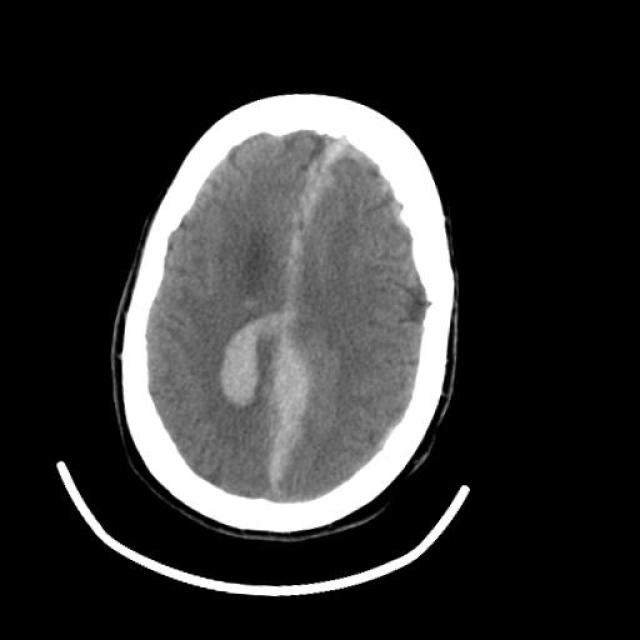Intraparenchymal: (251, 323, 337, 477), (206, 311, 270, 419)
Subdural: (275, 119, 335, 351)
